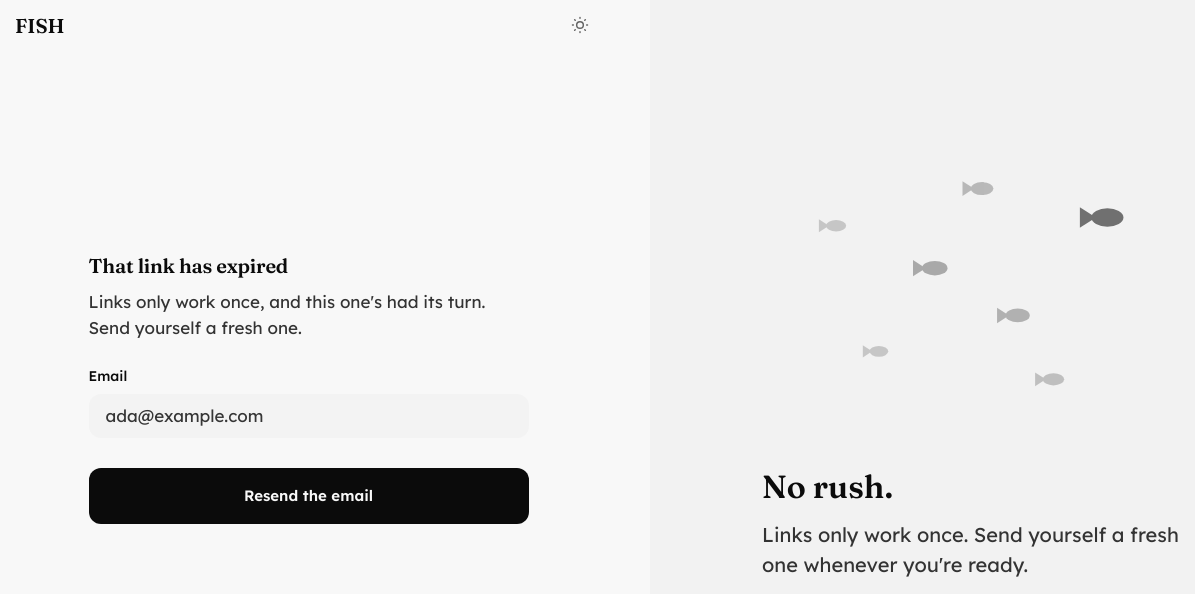
Test: ExpiredLinkPage › a successful resend shows a success-tone notice
Click the button "Resend the email" at (308, 496), box [88,468,528,524]
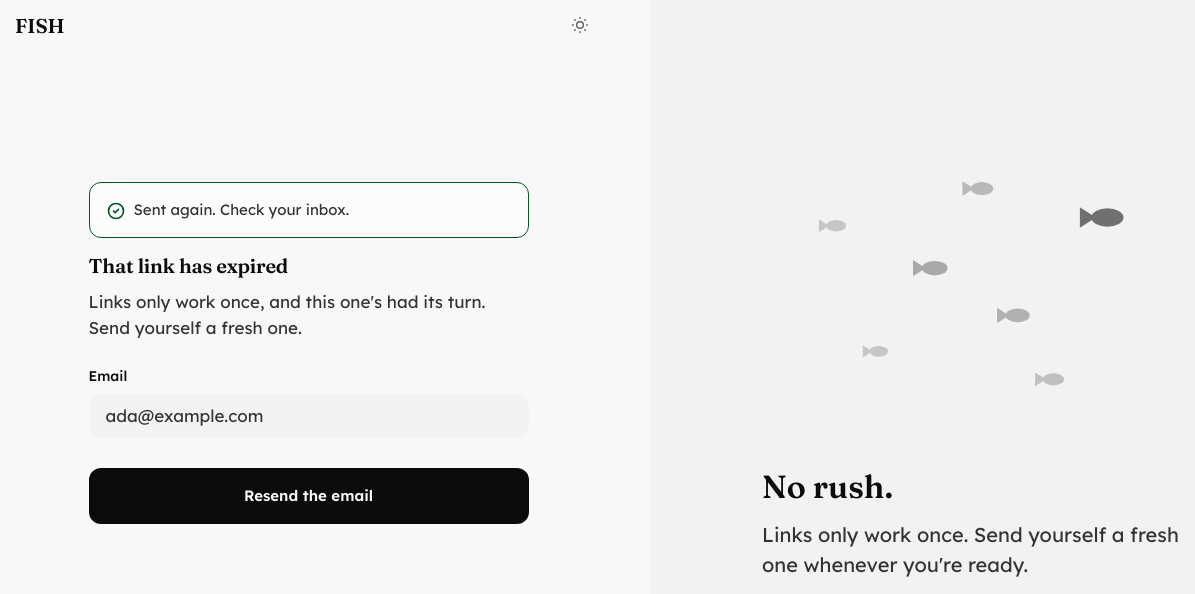
Check: the text "Sent again. Check your inbox." is shown, box [134,198,349,221]
Check: the element showing "Sent again. Check your inbox." is shown, box [88,182,528,238]
